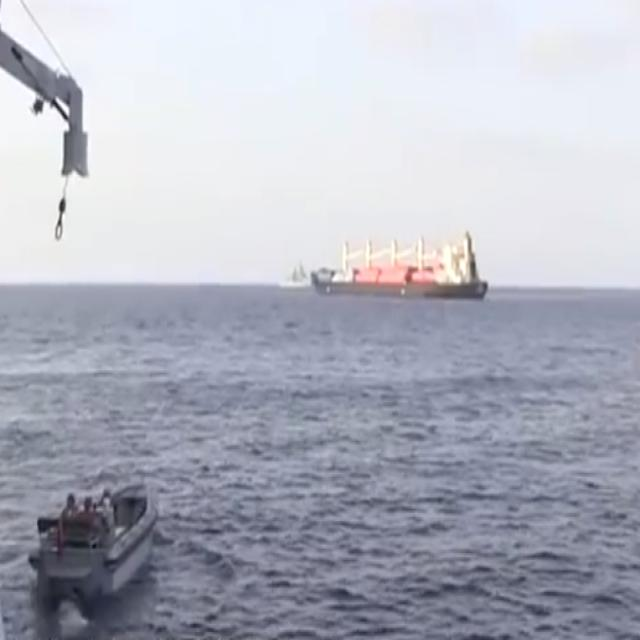cargoship: (313, 227, 491, 302)
houseboat: (27, 466, 159, 606)
